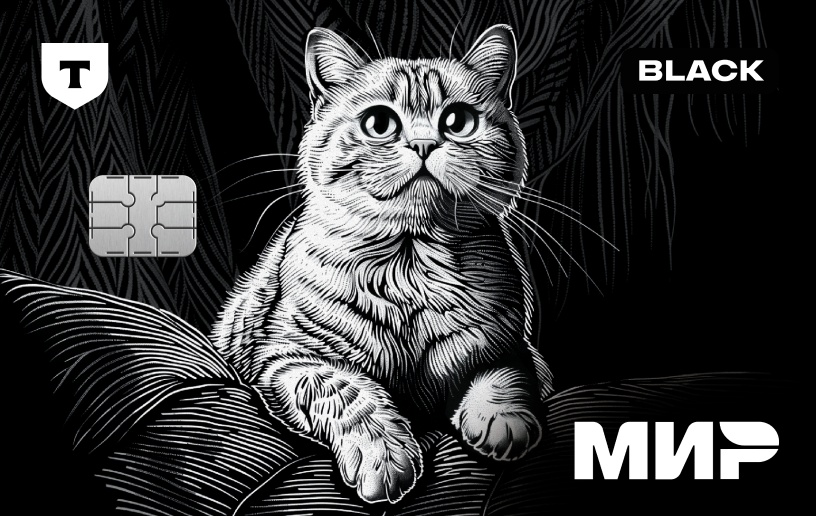TBank: (42, 43, 108, 111)
